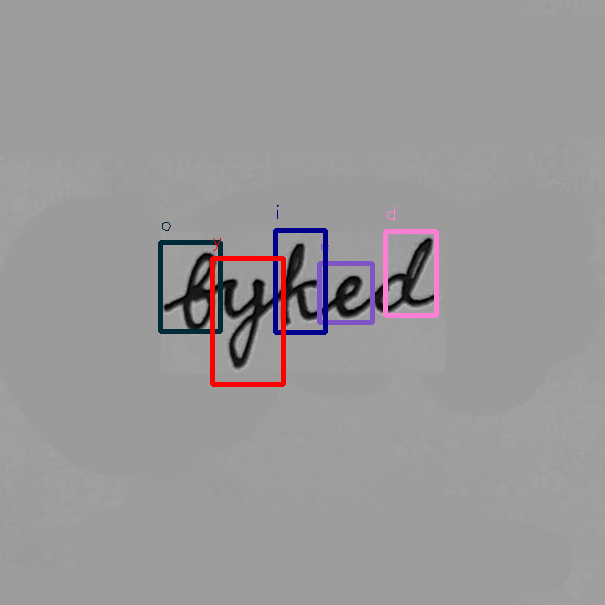b: (177, 248, 219, 332)
d: (369, 234, 444, 319)
e: (332, 270, 367, 323)
k: (276, 238, 324, 330)
y: (219, 272, 269, 373)
